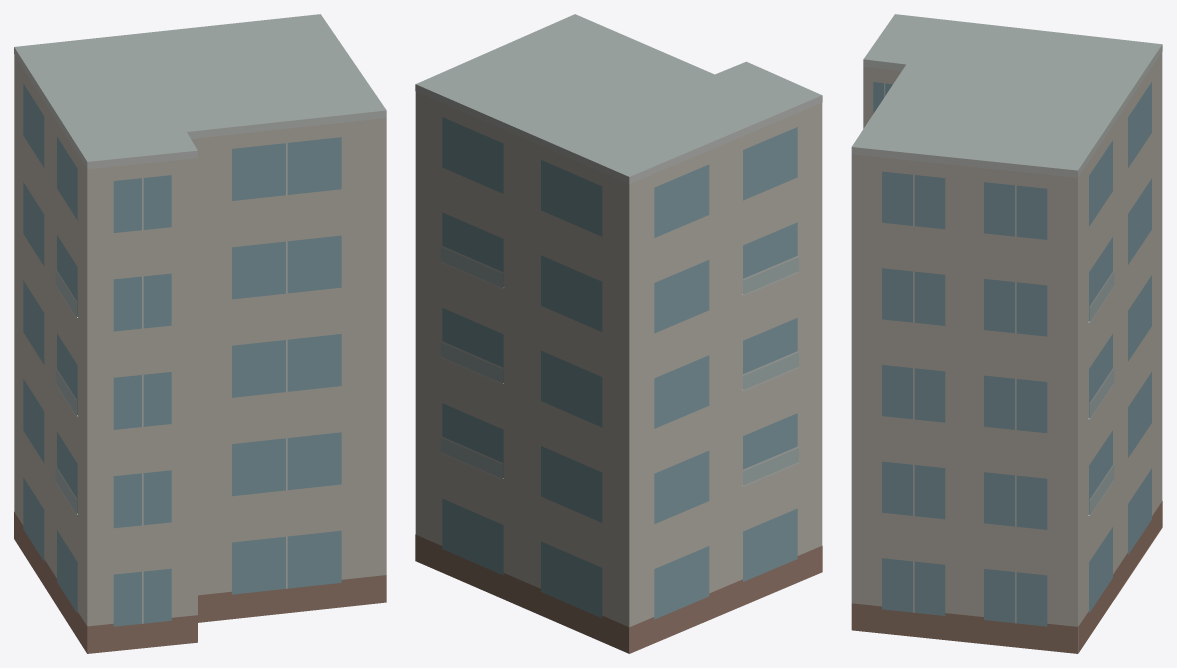
The model's file is survey-upis-32848694.glb.
3 views of the same model, side by side, from view 1: azimuth 30°, elevation 25°; view 2: azimuth 150°, elevation 25°; view 3: azimuth 270°, elevation 25° (orthographic). The views are drawn at different scales.
Visible parts, largest first — view 1: survey-upis-32848694.tmp; view 2: survey-upis-32848694.tmp; view 3: survey-upis-32848694.tmp.
Boxes of the visible parts, left/top/right/bottom form: survey-upis-32848694.tmp: left=14, top=14, right=386, bottom=653; survey-upis-32848694.tmp: left=415, top=14, right=822, bottom=653; survey-upis-32848694.tmp: left=851, top=14, right=1162, bottom=653.
Bounding box in the file's own units: 11.19 × 16.1 × 9.4.
